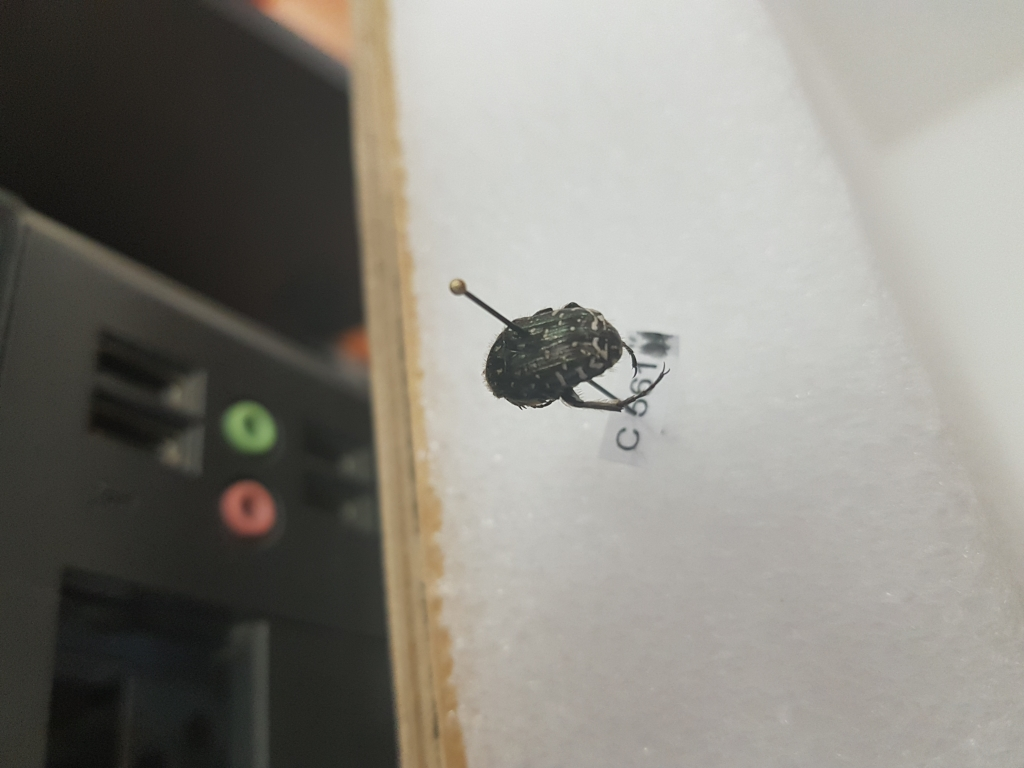Oxythyrea_funesta: (478, 297, 669, 423)
